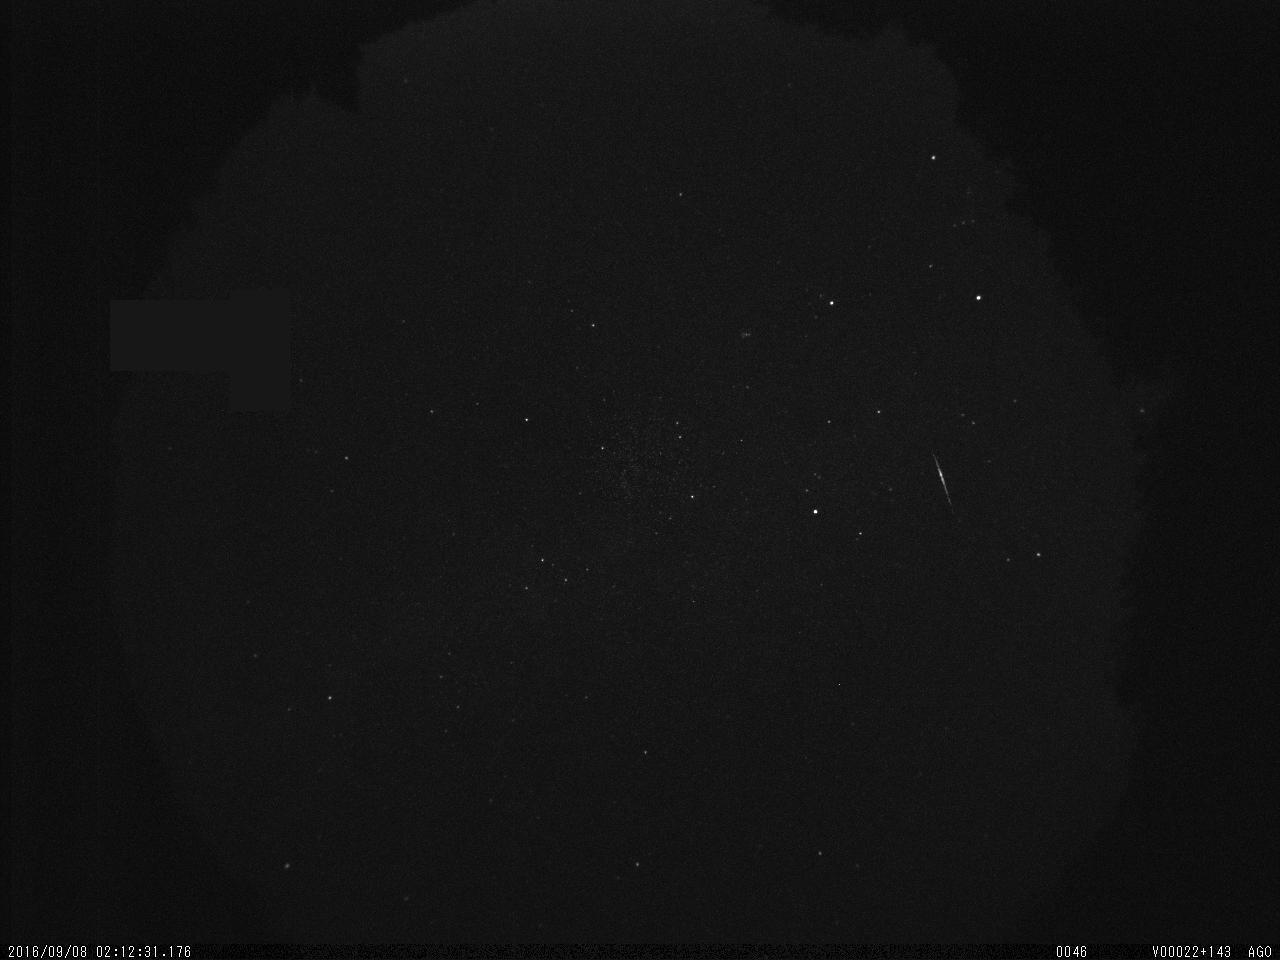meteor: (925, 450, 969, 522)
